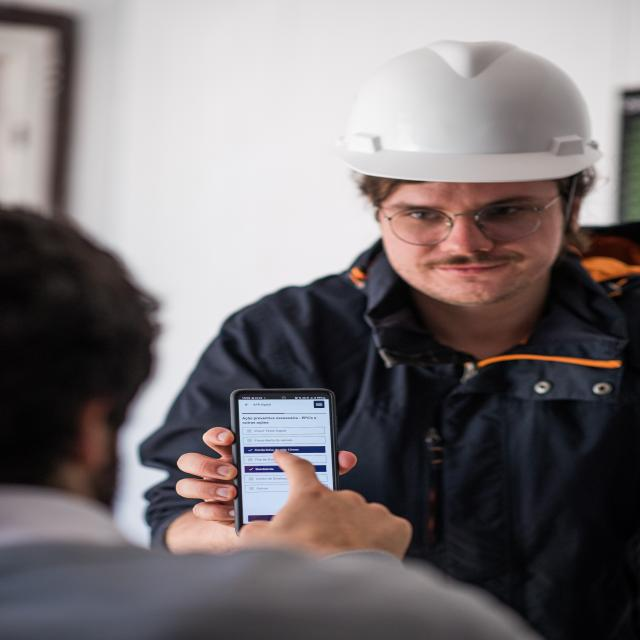capacete: (327, 36, 614, 186)
